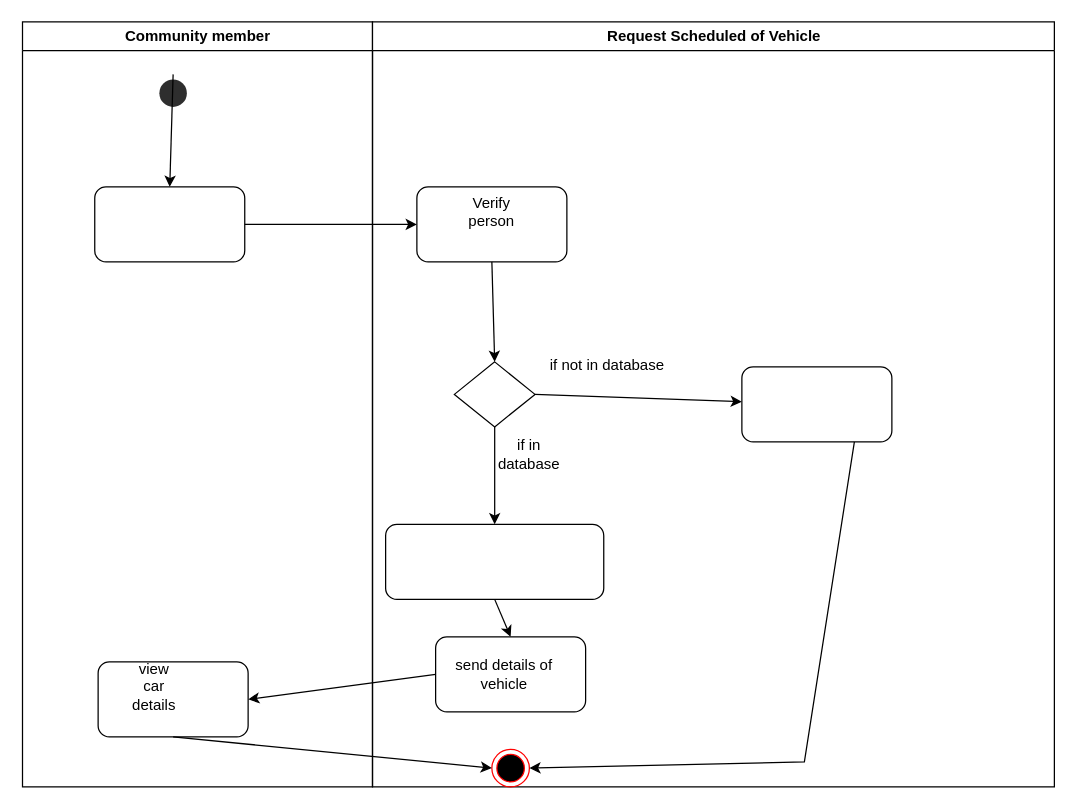
The diagram is 1076 pixels wide and 809 high, and some of its shapes have lost their labels. The shapes that lost their labels are listed below. From the top down, each one's centre as x and y in pixels, then its label:
At (x=169, y=224): "Enter personal details".
At (x=816, y=404): "prompt to create account".
At (x=494, y=561): "Check if there is vacant vehicle".
